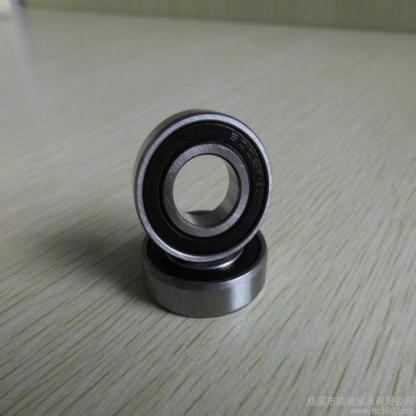FOD: (127, 109, 273, 264), (139, 207, 269, 319)
